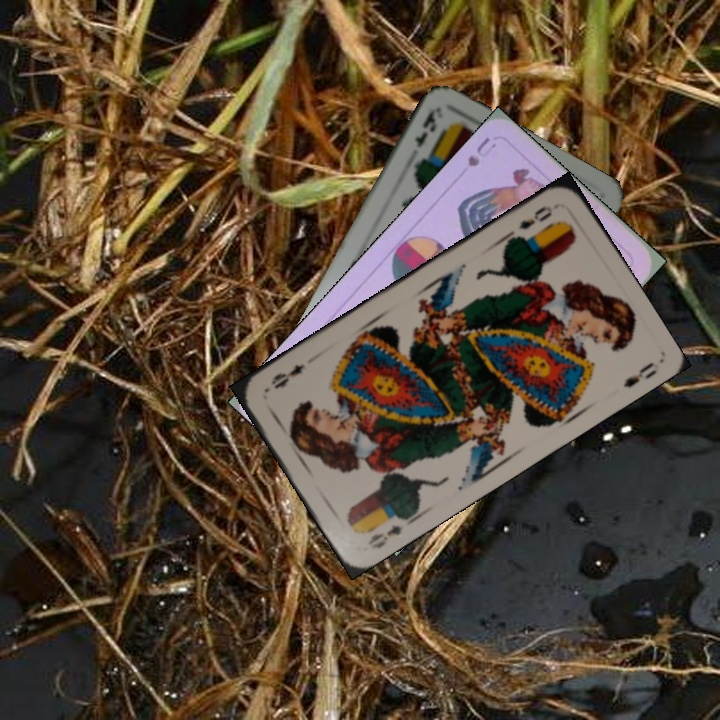EK: (410, 104, 440, 151)
EO: (363, 510, 415, 552), (514, 201, 555, 233)
SU: (463, 132, 499, 170)
